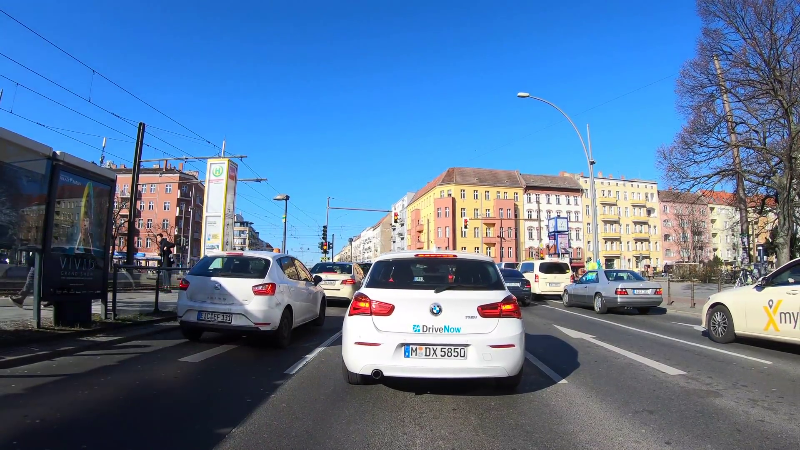Plate: (401, 339, 469, 359), (194, 309, 234, 324), (630, 287, 653, 295), (503, 280, 522, 287), (319, 280, 337, 287), (548, 281, 563, 287)
